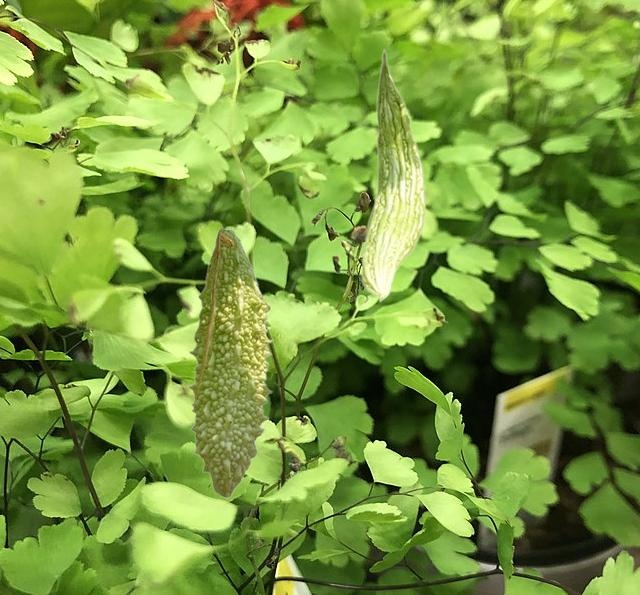ampalaya: (185, 226, 274, 500), (359, 48, 426, 305)
